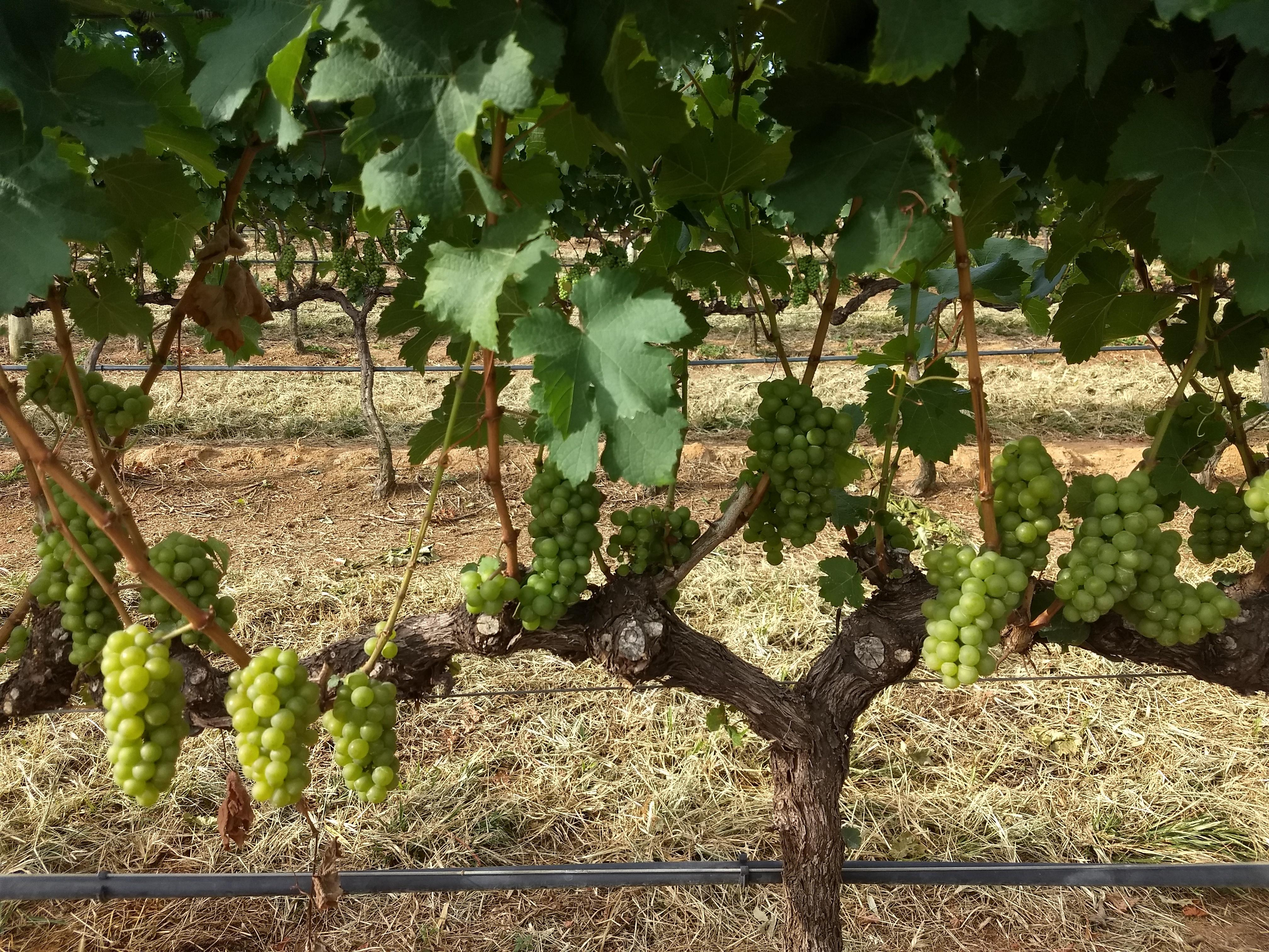leaf: (310, 2, 537, 219), (510, 269, 689, 484), (768, 70, 949, 233), (511, 269, 688, 435), (1110, 95, 1268, 271), (0, 113, 113, 311), (423, 209, 557, 349), (189, 0, 320, 123), (1051, 248, 1176, 363), (940, 32, 1043, 160), (654, 117, 789, 207), (603, 32, 690, 166), (0, 3, 69, 138), (93, 150, 202, 233), (60, 69, 159, 158), (870, 0, 970, 83), (625, 0, 735, 74), (895, 358, 973, 462), (834, 204, 945, 274), (529, 384, 600, 482), (600, 407, 686, 485), (1079, 0, 1148, 94), (145, 110, 224, 187), (265, 5, 321, 110), (66, 273, 152, 339), (958, 157, 1021, 247), (1197, 301, 1268, 376), (1014, 23, 1084, 97), (409, 375, 458, 464), (144, 209, 208, 277), (544, 102, 606, 168), (672, 250, 751, 297), (1151, 455, 1219, 507), (194, 316, 263, 366), (502, 154, 562, 210), (1208, 0, 1268, 54), (634, 215, 685, 275), (864, 367, 900, 443), (452, 373, 488, 447), (818, 556, 865, 608), (1160, 301, 1197, 366), (1230, 51, 1268, 111), (1229, 253, 1268, 311), (830, 487, 874, 528), (1154, 0, 1230, 22), (1034, 31, 1063, 76), (1019, 296, 1051, 335), (1068, 27, 1081, 75), (535, 275, 545, 290), (529, 294, 540, 304), (542, 26, 557, 32), (526, 4, 535, 10), (1057, 83, 1064, 88), (903, 214, 908, 221), (291, 71, 294, 82), (299, 44, 302, 55), (536, 11, 541, 17), (784, 3, 788, 6), (552, 454, 554, 458), (786, 13, 789, 15), (296, 62, 297, 68), (222, 335, 224, 337), (857, 213, 857, 214)
